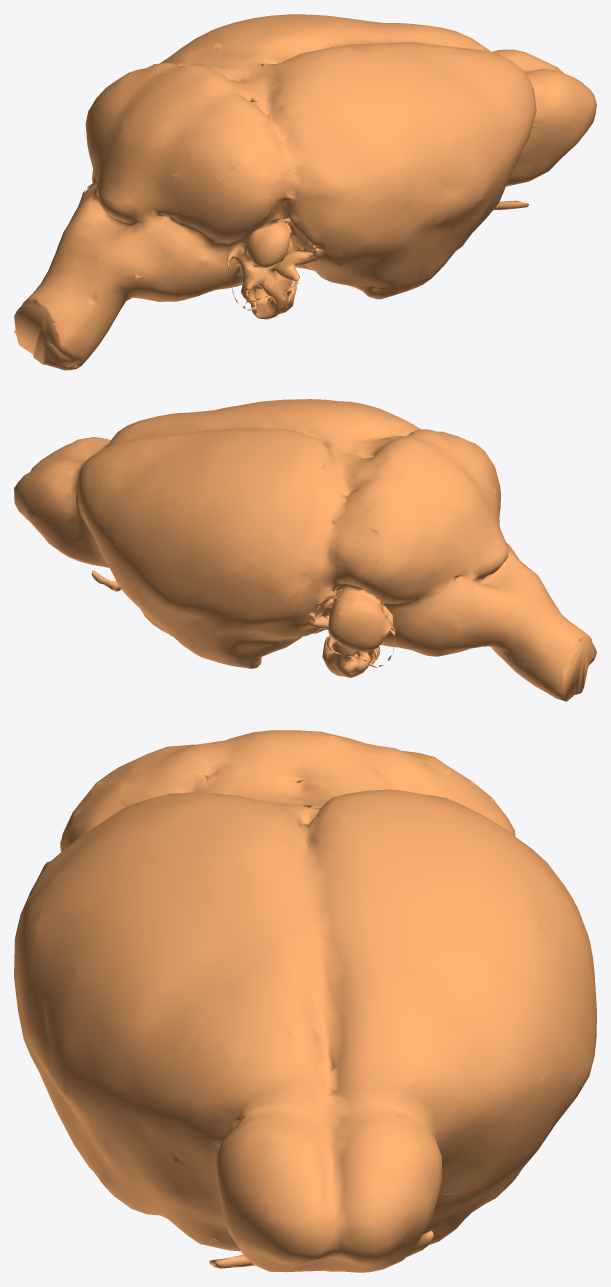
Rendered from Guts_brain.fbx.
3 views of the same model, one above another, from view 1: azimuth 30°, elevation 25°; view 2: azimuth 150°, elevation 25°; view 3: azimuth 270°, elevation 25° (orthographic). The views are drawn at different scales.
Parts seen in each view (by area): view 1: node_id175; view 2: node_id175; view 3: node_id175.
Part boxes in pixels (<box>): node_id175: <box>14,14,596,370</box>; node_id175: <box>14,399,596,701</box>; node_id175: <box>14,730,596,1272</box>.
Bounding box in the file's own units: 0.4891 × 0.1956 × 0.2708.
Materials: 1 (1 with a texture image).
